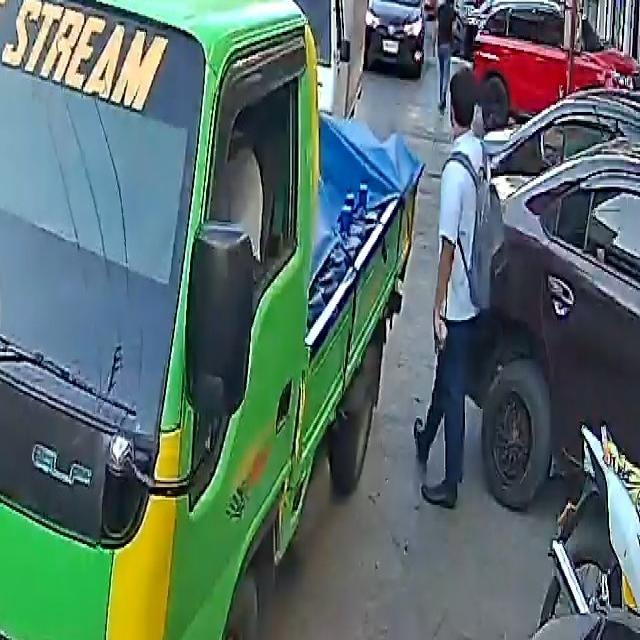car: (419, 79, 640, 518), (465, 0, 640, 126), (366, 0, 440, 75)
